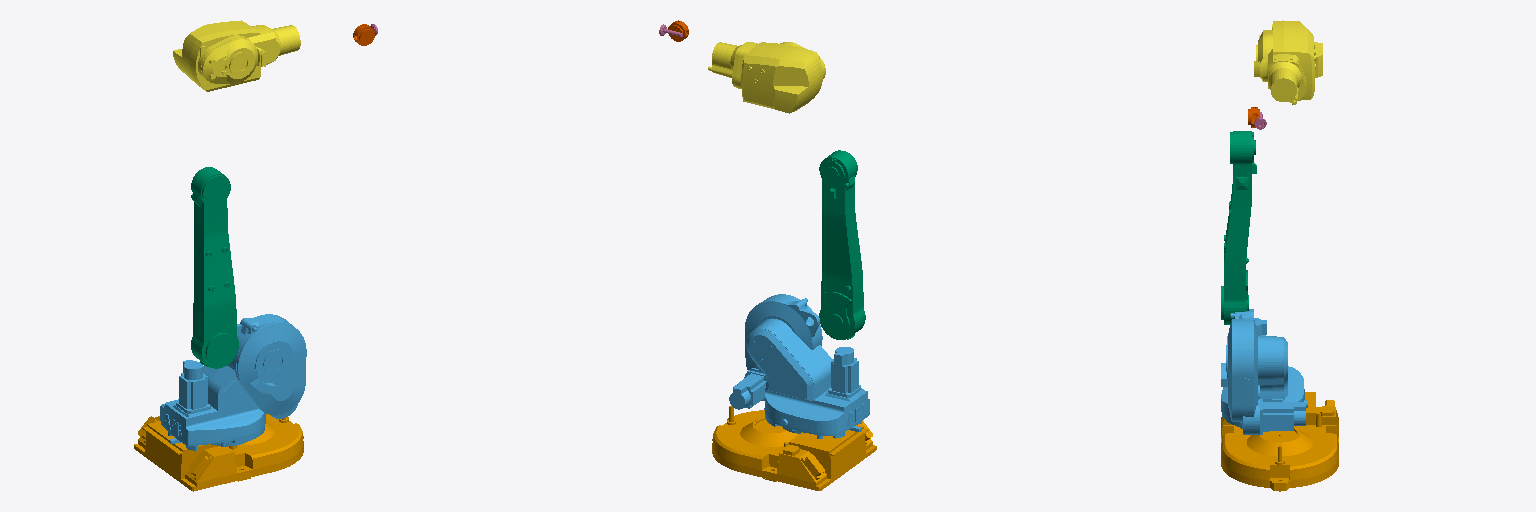
robot.urdf — robot_manipulator:
<?xml version="1.0"?>

<robot name="robot_manipulator">

  <!-- Base Link -->
  <link name="base_link">
    <visual name="visual">
      <origin xyz="0 0 0" rpy="0 0 0" />
      <geometry>
        <mesh filename="package://manipulator/meshes/base_link.dae"/>
      </geometry>
    </visual>
  </link>

  <!-- Joint 1 -->
  <joint name="joint_1" type="revolute">
    <origin xyz="0 0 0.1255" rpy="0 0 0"/>
    <axis xyz="0 0 1"/>
    <parent link="base_link"/>
    <child link="link_1"/>
    <limit effort="0" lower="-2.967" upper="2.967" velocity="1.7453"/>
  </joint>

  <!-- Link 1 -->
  <link name="link_1">
    <visual name="visual">
      <origin xyz="0 0 -0.1255" rpy="0 0 0" />
      <geometry>
        <mesh filename="package://manipulator/meshes/link_1.dae"/>
      </geometry>
    </visual>
  </link>

  <!-- Joint 2 -->
  <joint name="joint_2" type="revolute">
    <origin xyz="0.15 0.137 0.4865 " rpy="0 0 0"/>
    <axis xyz="0 0 0"/>
    <parent link="link_1"/>
    <child link="link_2"/>
    <limit effort="0" lower="-1.134" upper="1.4855" velocity="1.5707"/>
  </joint>

  <!-- Link 2 -->
  <link name="link_2">
    <visual name="visual">
      <origin xyz="-0.15 -0.137 -0.4865" rpy="0 0 0" />
      <geometry>
        <mesh filename="package://manipulator/meshes/link_2.dae"/>
      </geometry>
    </visual>
  </link>

  <!-- Joint 3 -->
  <joint name="joint_3" type="revolute">
    <origin xyz="0 0 0" rpy="0 0 0"/>
    <axis xyz="0 1 0"/>
    <parent link="link_2"/>
    <child link="link_3"/>
    <limit effort="0" lower="-3.142" upper="1.222" velocity="1.5707"/>
  </joint>

  <!-- Link 3 -->
  <link name="link_3">
    <visual name="visual">
      <origin xyz="0 0 0" rpy="0 0 0" />
      <geometry>
        <mesh filename="package://manipulator/meshes/link_3.dae"/>
      </geometry>
    </visual>
  </link>

  <!-- Joint 4 -->
  <joint name="joint_4" type="revolute">
    <origin xyz="0 0 0" rpy="0 0 0"/>
    <axis xyz="1 0 0"/>
    <parent link="link_3"/>
    <child link="link_4"/>
    <limit effort="0" lower="-5.236" upper="5.236" velocity="2.9671"/>
  </joint>

  <!-- Link 4 -->
  <link name="link_4">
    <visual name="visual">
      <origin xyz="0 0 0" rpy="0 0 0" />
      <geometry>
        <mesh filename="package://manipulator/meshes/link_4.dae"/>
      </geometry>
    </visual>
  </link>

  <!-- Joint 5 -->
  <joint name="joint_5" type="revolute">
    <origin xyz="0 0 0" rpy="0 0 0"/>
    <axis xyz="0 0 0"/>
    <parent link="link_4"/>
    <child link="link_5"/>
    <limit effort="0" lower="-2.094" upper="2.094" velocity="2.4435"/>
  </joint>

  <!-- Link 5 -->
  <link name="link_5">
    <visual name="visual">
      <origin xyz="0 0 0" rpy="0 0 0" />
      <geometry>
        <mesh filename="package://manipulator/meshes/link_5.dae"/>
      </geometry>
    </visual>
  </link>

  <!-- Joint 6 -->
  <joint name="joint_6" type="revolute">
    <origin xyz="0 0 0" rpy="0 0 0"/>
    <axis xyz="1 0 0"/>
    <parent link="link_5"/>
    <child link="link_6"/>
    <limit effort="0" lower="-6.283" upper="6.283" velocity="3.3161"/>
  </joint>

  <!-- Link 6 -->
  <link name="link_6">
    <visual name="visual">
      <origin xyz="0 0 0" rpy="0 0 0" />
      <geometry>
        <mesh filename="package://manipulator/meshes/link_6.dae"/>
      </geometry>
    </visual>
  </link>

</robot>

--- Render facts (derived) ---
Views: 3 orthographic renders of the robot side by side, from view 1: azimuth 30°, elevation 25°; view 2: azimuth 150°, elevation 25°; view 3: azimuth 270°, elevation 25°.
Robot: robot_manipulator — 7 links, 6 joints (6 revolute); root link base_link; default pose: all joints at 0.
Links seen in each view (by area): view 1: link_1, link_2, base_link, link_3; view 2: link_1, base_link, link_2, link_3; view 3: link_1, base_link, link_2, link_3.
Boxes of the visible links, x1,y1,x2,y2 form: link_1: (160,314,306,450); link_2: (191,167,238,368); base_link: (134,414,303,491); link_3: (173,20,300,91); link_1: (729,294,869,438); base_link: (712,405,876,490); link_2: (819,150,865,339); link_3: (708,42,825,113); link_1: (1221,309,1307,434); base_link: (1221,392,1338,491); link_2: (1221,131,1256,324); link_3: (1254,20,1322,104).
Size in the robot's own frame: 0.9651 by 0.4833 by 1.91 metres.
6 mesh visuals loaded from 7 distinct referenced files (6 Collada DAE); not drawn: 1 (reference not matched to a file when rendering).